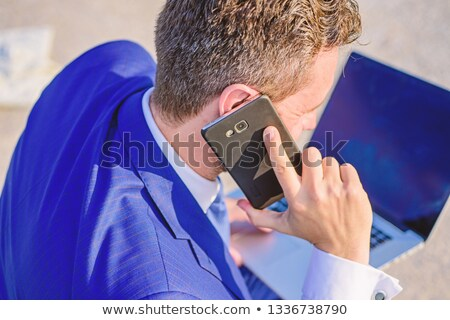phone: (198, 101, 307, 209)
